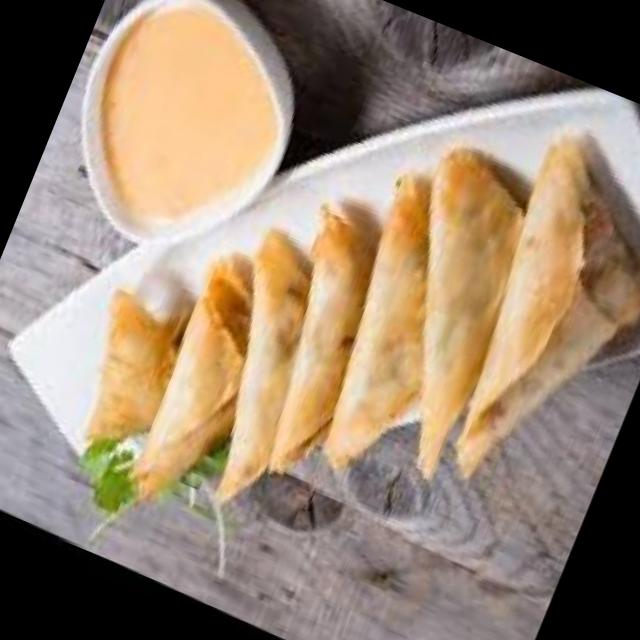samosa: (421, 131, 640, 520), (329, 143, 558, 486), (291, 170, 499, 488), (165, 230, 348, 514), (225, 207, 407, 486), (117, 253, 293, 529), (59, 292, 192, 466)
